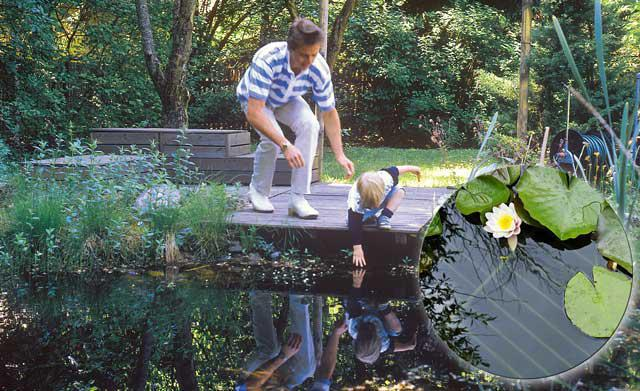child: (337, 160, 425, 271)
